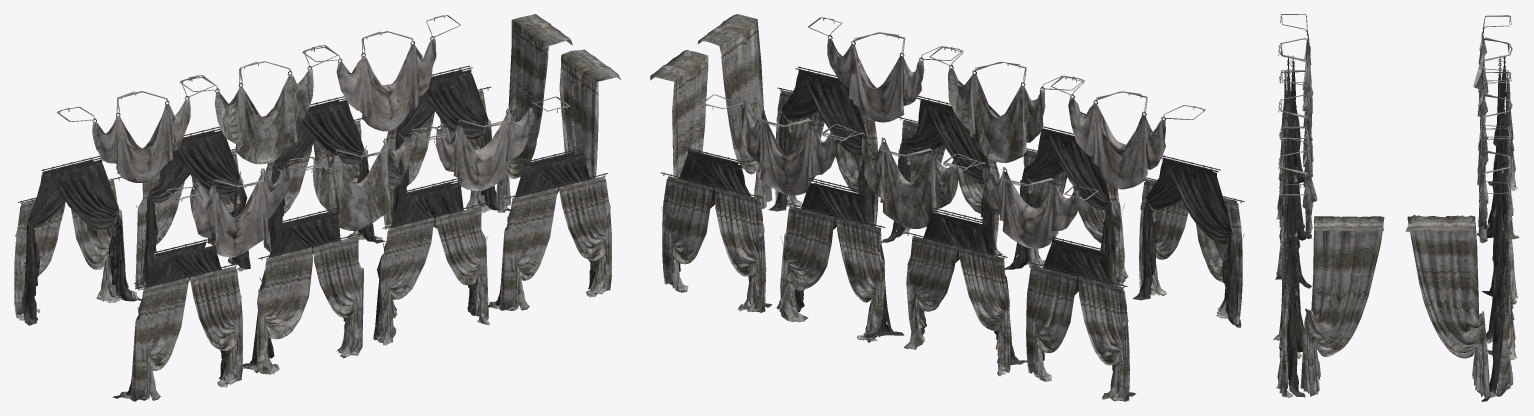
Rendered from sponza_curtains.gltf.
3 renders of one model, left to right at view 1: azimuth 30°, elevation 25°; view 2: azimuth 150°, elevation 25°; view 3: azimuth 270°, elevation 25°, orthographic. The views are drawn at different scales.
Parts seen in each view (by area): view 1: curtain_04, curtain_hanging_03, curtain_holder_01; view 2: curtain_04, curtain_hanging_03, curtain_holder_01; view 3: curtain_04, curtain_hanging_03, curtain_holder_01.
Part boxes in pixels (box(x1,y1,x2,y2)): curtain_04: box(14, 14, 620, 401); curtain_hanging_03: box(92, 39, 534, 257); curtain_holder_01: box(18, 65, 607, 290); curtain_04: box(650, 14, 1244, 401); curtain_hanging_03: box(741, 38, 1165, 248); curtain_holder_01: box(660, 66, 1244, 288); curtain_04: box(1273, 14, 1519, 401); curtain_hanging_03: box(1302, 31, 1488, 243); curtain_holder_01: box(1284, 55, 1508, 289).
Bounding box in the file's own units: 16.73 × 6.21 × 7.42.
